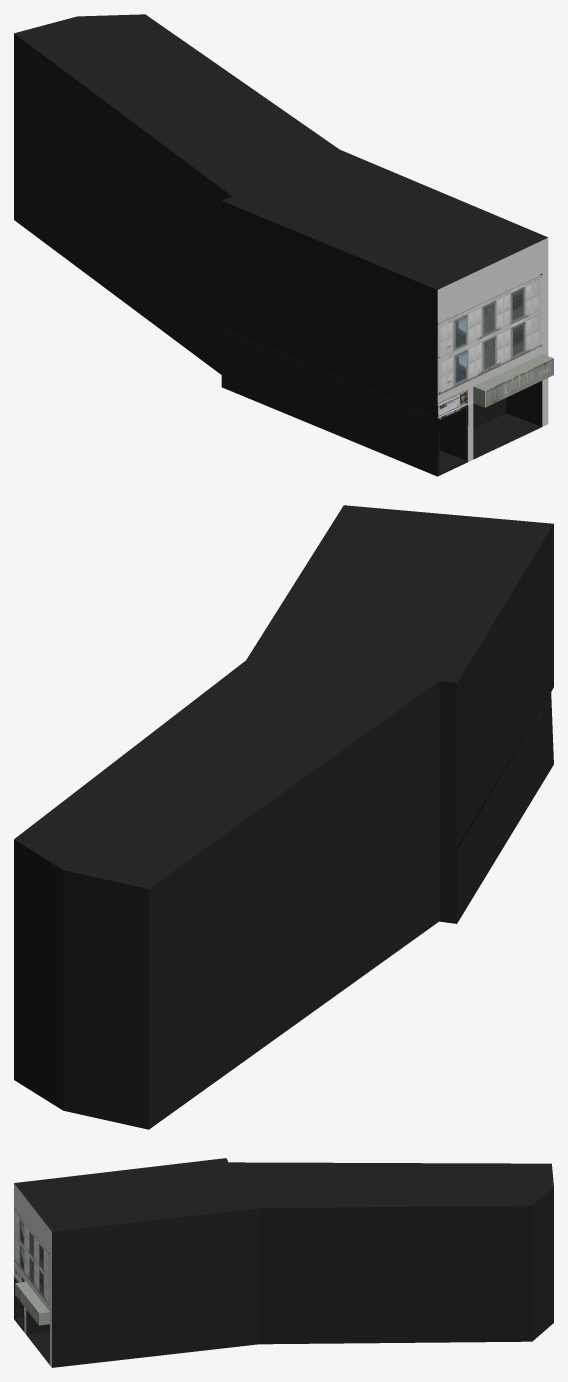
File: Cavells.fbx
3 renders of one model, top to bottom at view 1: azimuth 30°, elevation 25°; view 2: azimuth 150°, elevation 25°; view 3: azimuth 270°, elevation 25°, orthographic. The views are drawn at different scales.
Visible parts, largest first — view 1: Cavells; view 2: Cavells; view 3: Cavells.
Boxes of the visible parts, x1,y1,x2,y2 form: Cavells: (14, 14, 553, 476); Cavells: (14, 505, 553, 1129); Cavells: (14, 1158, 553, 1367).
Bounding box in the file's own units: 1119 × 963 × 3462.
